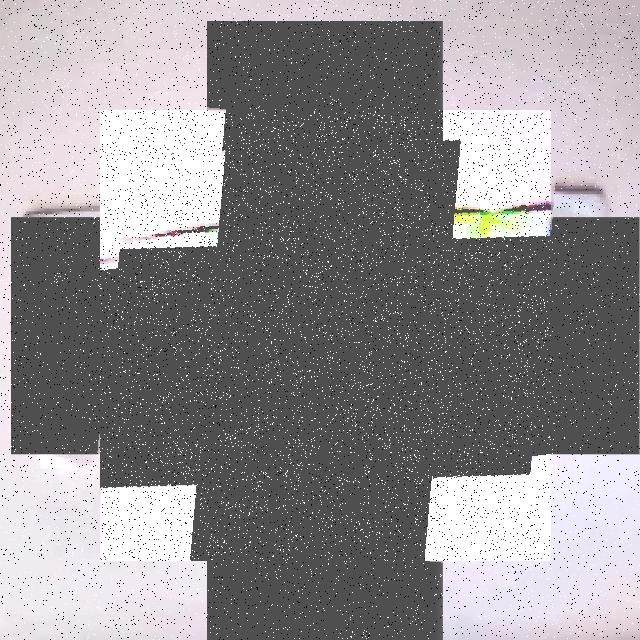lima puluh ribu rupiah: (100, 110, 551, 561)
